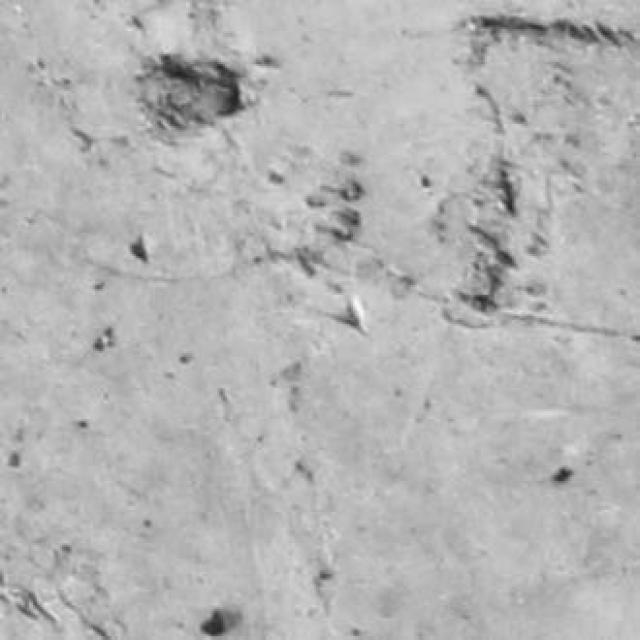crack: (136, 54, 244, 130), (465, 16, 638, 47), (458, 227, 514, 312), (495, 159, 516, 215)
